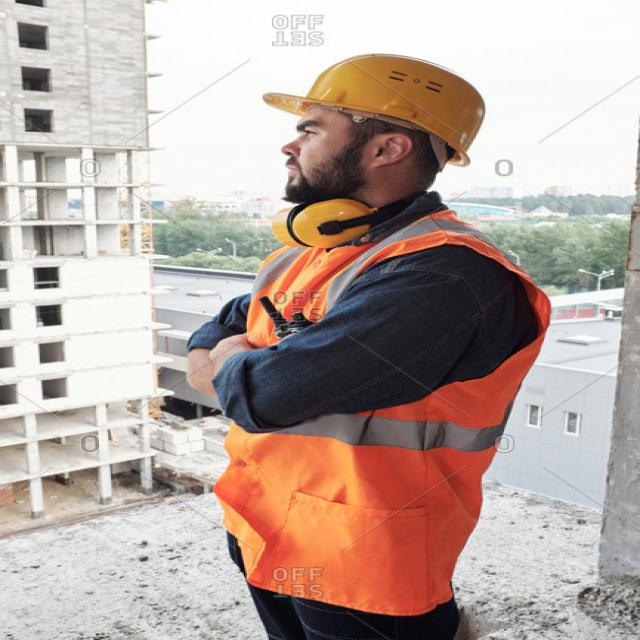Reflective-Jacket: (201, 210, 560, 620)
Safety-Helmet: (260, 51, 498, 166)
